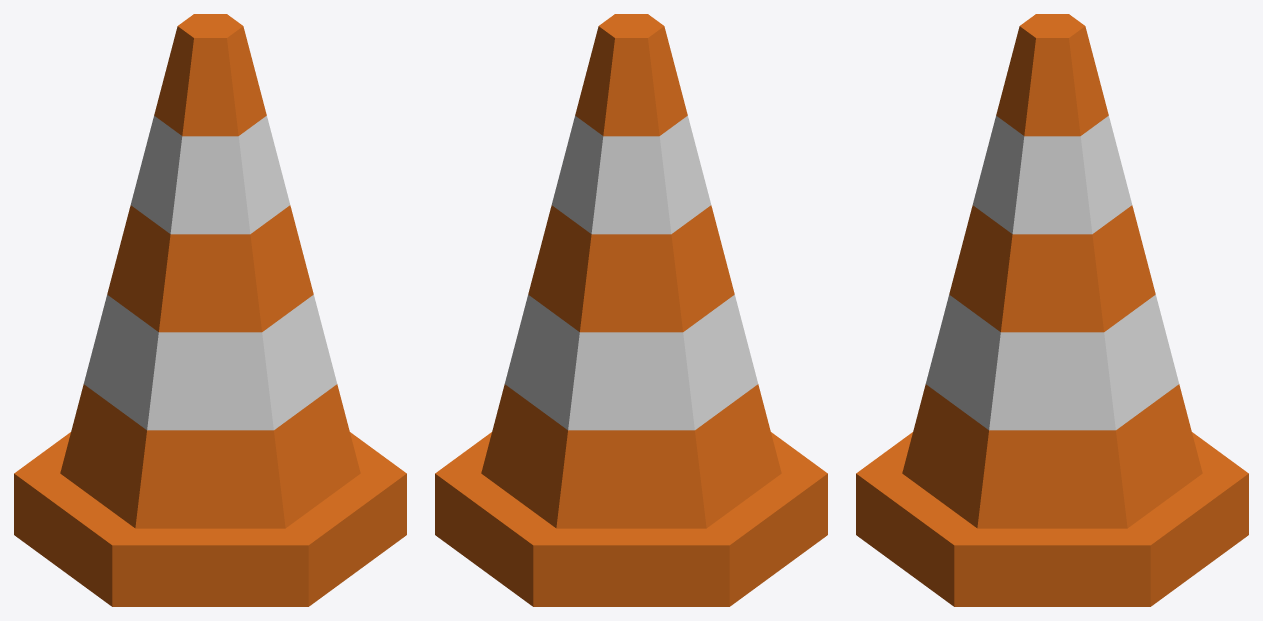
3 views of the same model, side by side, from view 1: azimuth 30°, elevation 25°; view 2: azimuth 150°, elevation 25°; view 3: azimuth 270°, elevation 25° (orthographic).
Visible parts, largest first — view 1: Circle; view 2: Circle; view 3: Circle.
Boxes of the visible parts, x1,y1,x2,y2 form: Circle: (14, 14, 406, 606); Circle: (435, 14, 827, 606); Circle: (856, 14, 1248, 606).
Size of the model in its own units: 0.0573 by 0.0947 by 0.0662.
